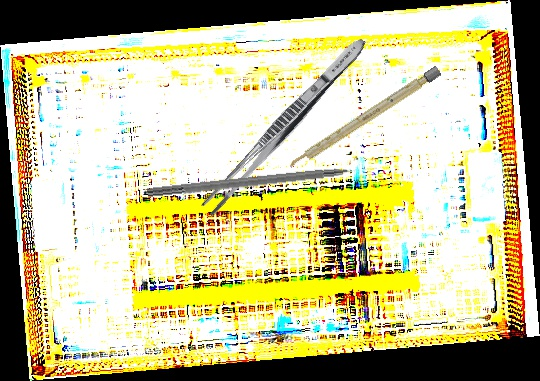Dressing Forceps: (199, 32, 371, 220)
Hook Surgical: (146, 162, 379, 201)
Scalpel Handle: (287, 65, 442, 172)
